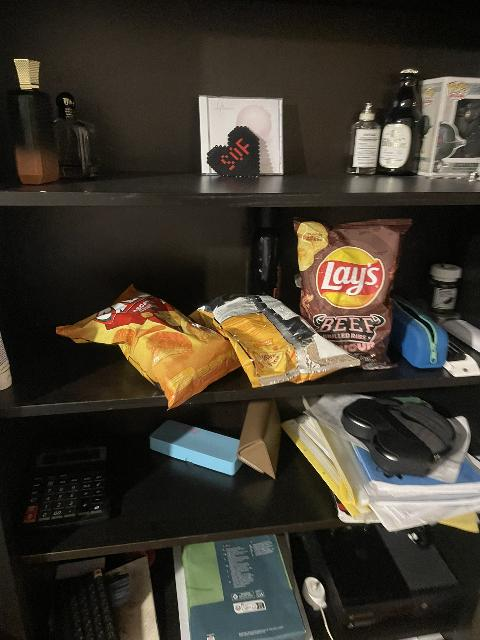Chio Cascaval 125g: (58, 284, 245, 409)
Chio Hula Hoops Cheese 70g: (205, 291, 351, 385)
Lays Beef Grilled Ribs 125g: (294, 217, 414, 359)
